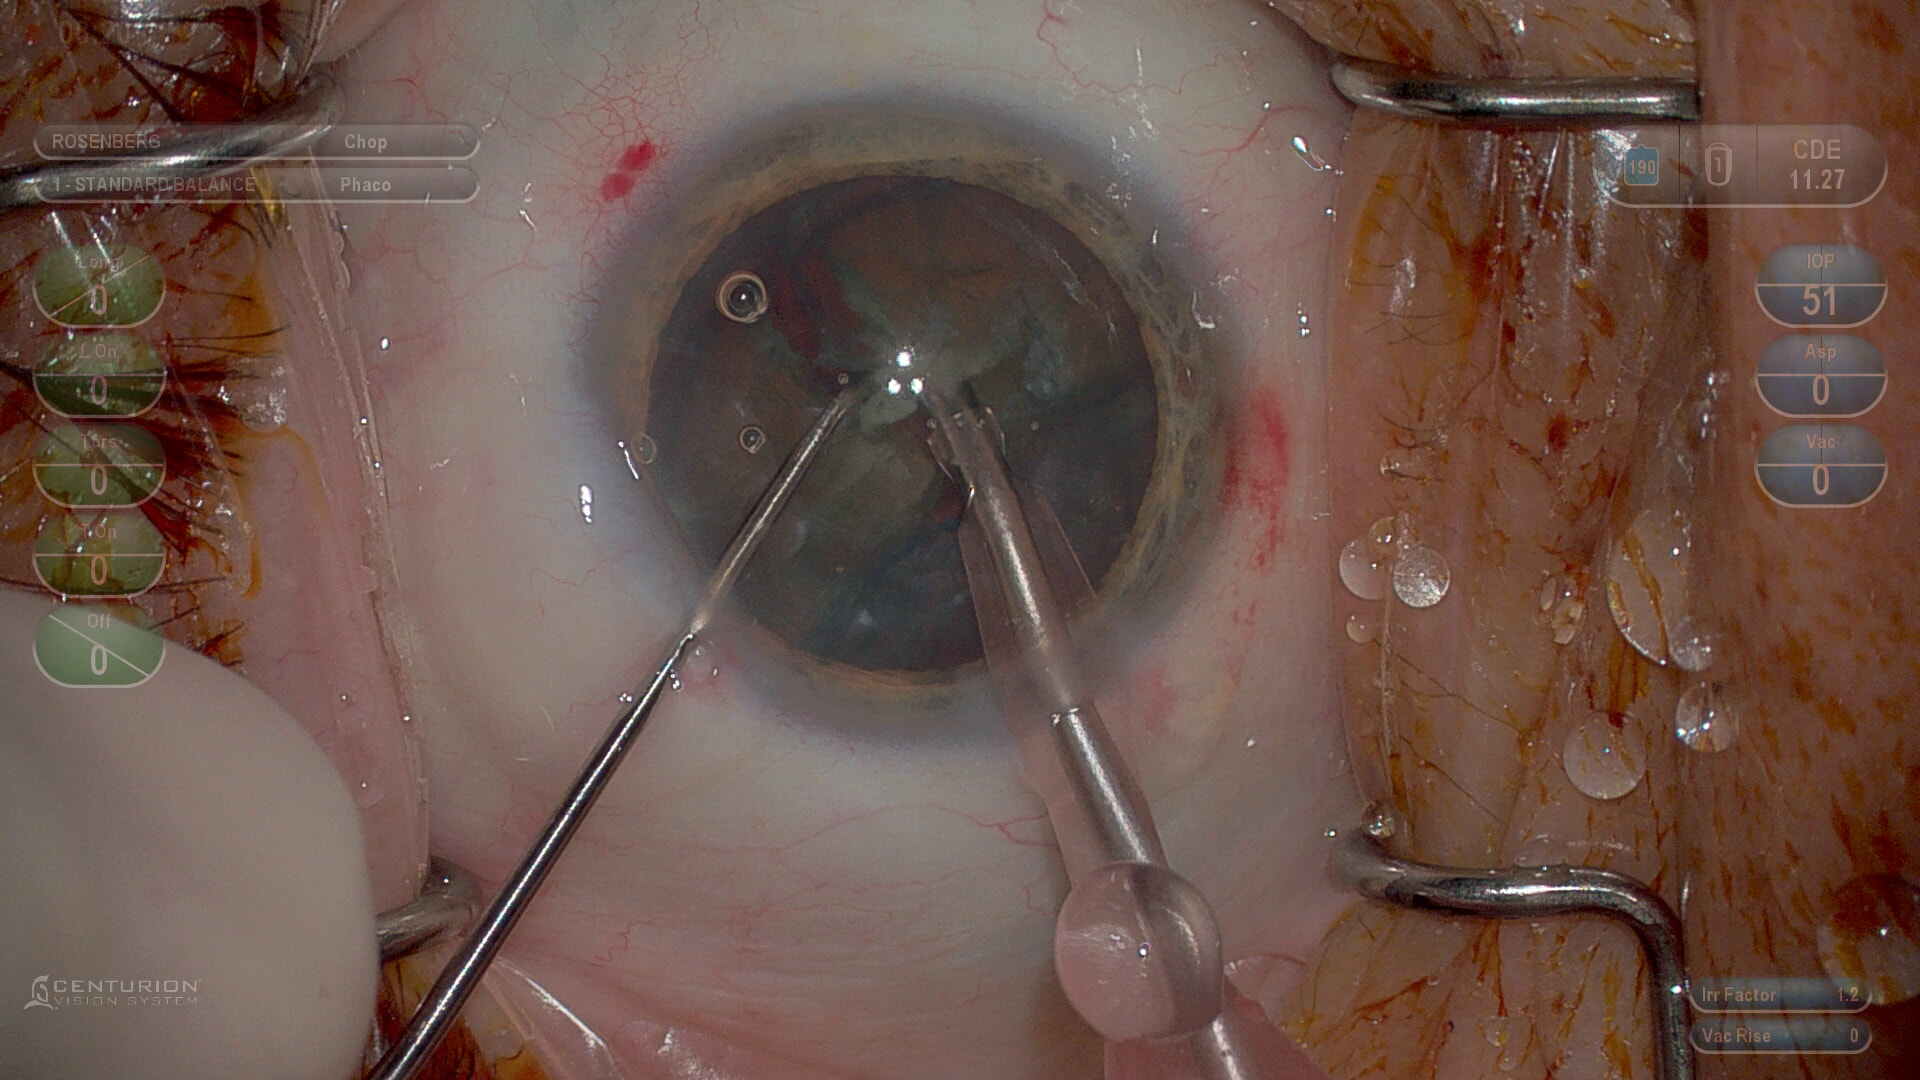iris: (594, 109, 1238, 741)
pupil: (647, 175, 1164, 678)
